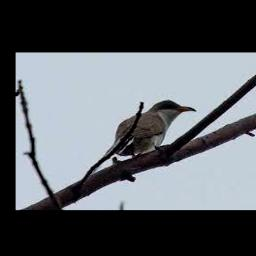Cuckoo: (111, 99, 195, 156)
